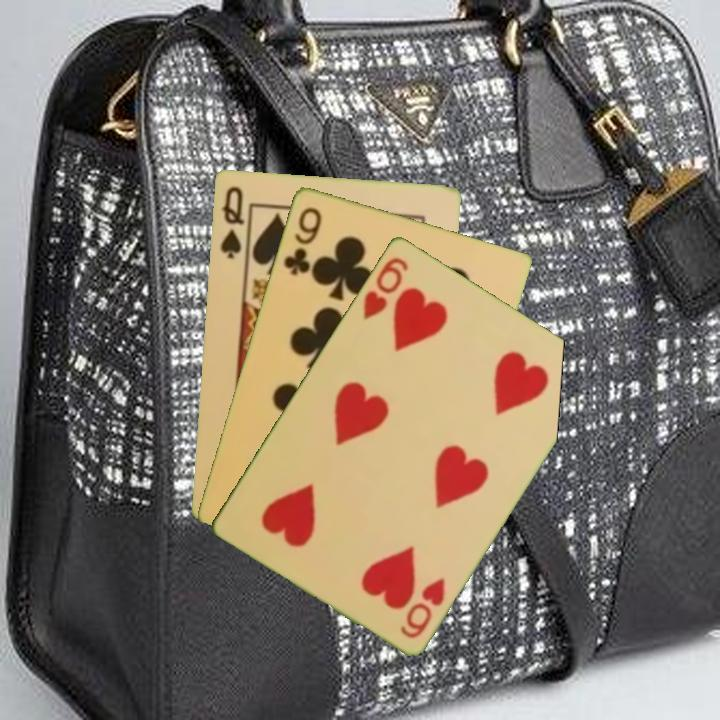6h: (359, 252, 412, 322), (396, 573, 448, 641)
9c: (280, 203, 324, 278)
Qs: (216, 182, 246, 261)
